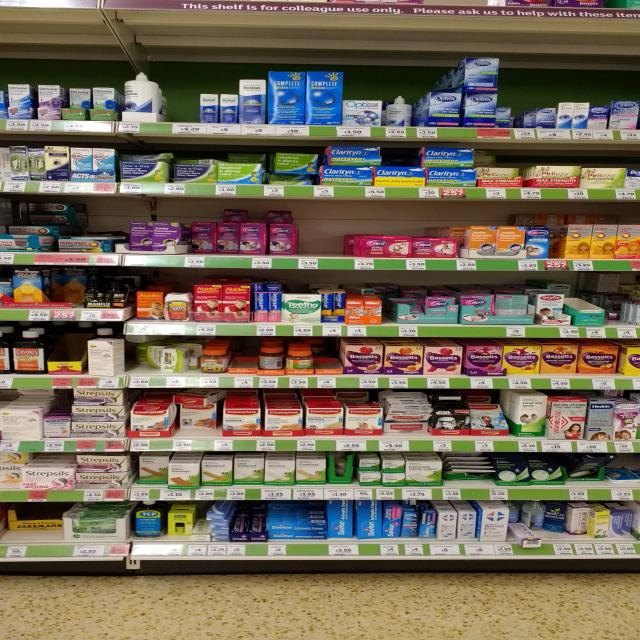void: (0, 507, 45, 560), (168, 78, 202, 136), (299, 212, 327, 270), (330, 211, 356, 270), (228, 345, 256, 387)
